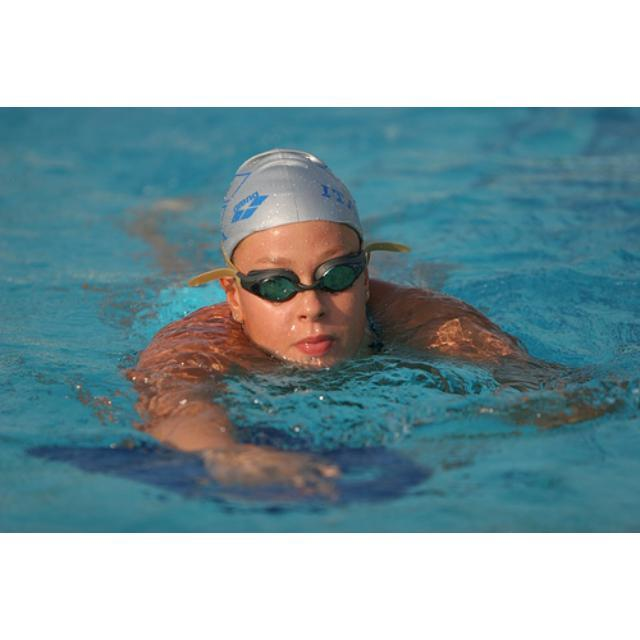human: (136, 146, 614, 500)
